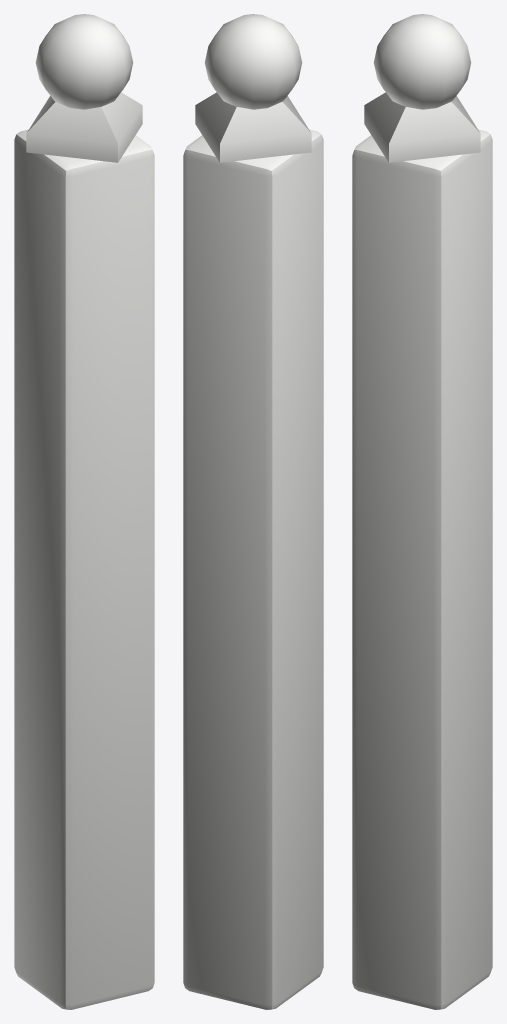
File: cerca_madeira_canto.glb
The picture shows the model from 3 angles, left to right: view 1: azimuth 30°, elevation 25°; view 2: azimuth 150°, elevation 25°; view 3: azimuth 330°, elevation 25°; orthographic projection.
Visible parts, largest first — view 1: cerca_madeira_canto; view 2: cerca_madeira_canto; view 3: cerca_madeira_canto.
Boxes of the visible parts, left/top/right/bottom form: cerca_madeira_canto: left=14, top=14, right=154, bottom=1009; cerca_madeira_canto: left=183, top=14, right=323, bottom=1009; cerca_madeira_canto: left=352, top=14, right=492, bottom=1009.
Size of the model in its own units: 0.1612 by 1.28 by 0.1612.
1 material, 1 textured.
